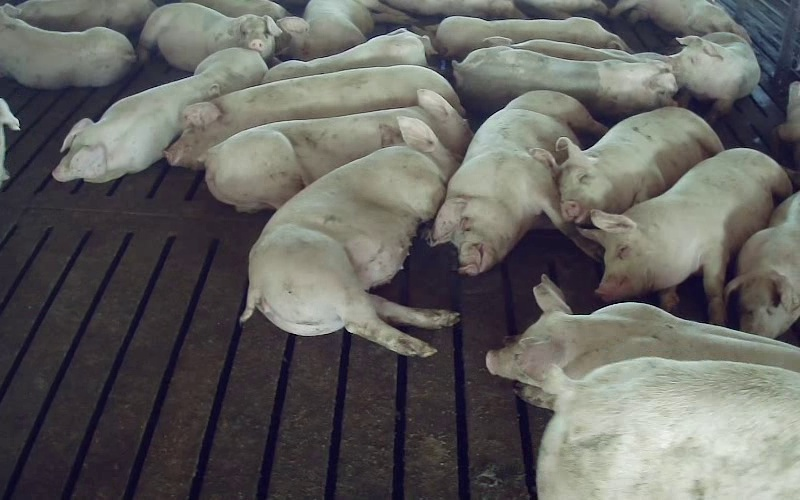pig: (242, 117, 457, 356), (486, 275, 799, 408), (537, 357, 799, 499), (583, 148, 791, 324), (205, 89, 471, 211), (430, 91, 605, 275), (165, 66, 462, 168), (53, 48, 266, 182), (556, 107, 723, 224), (453, 46, 677, 120), (726, 192, 799, 337), (139, 3, 282, 71), (411, 16, 628, 59), (262, 28, 433, 82), (666, 32, 759, 120), (277, 0, 411, 60), (610, 0, 750, 42), (16, 0, 156, 33)
